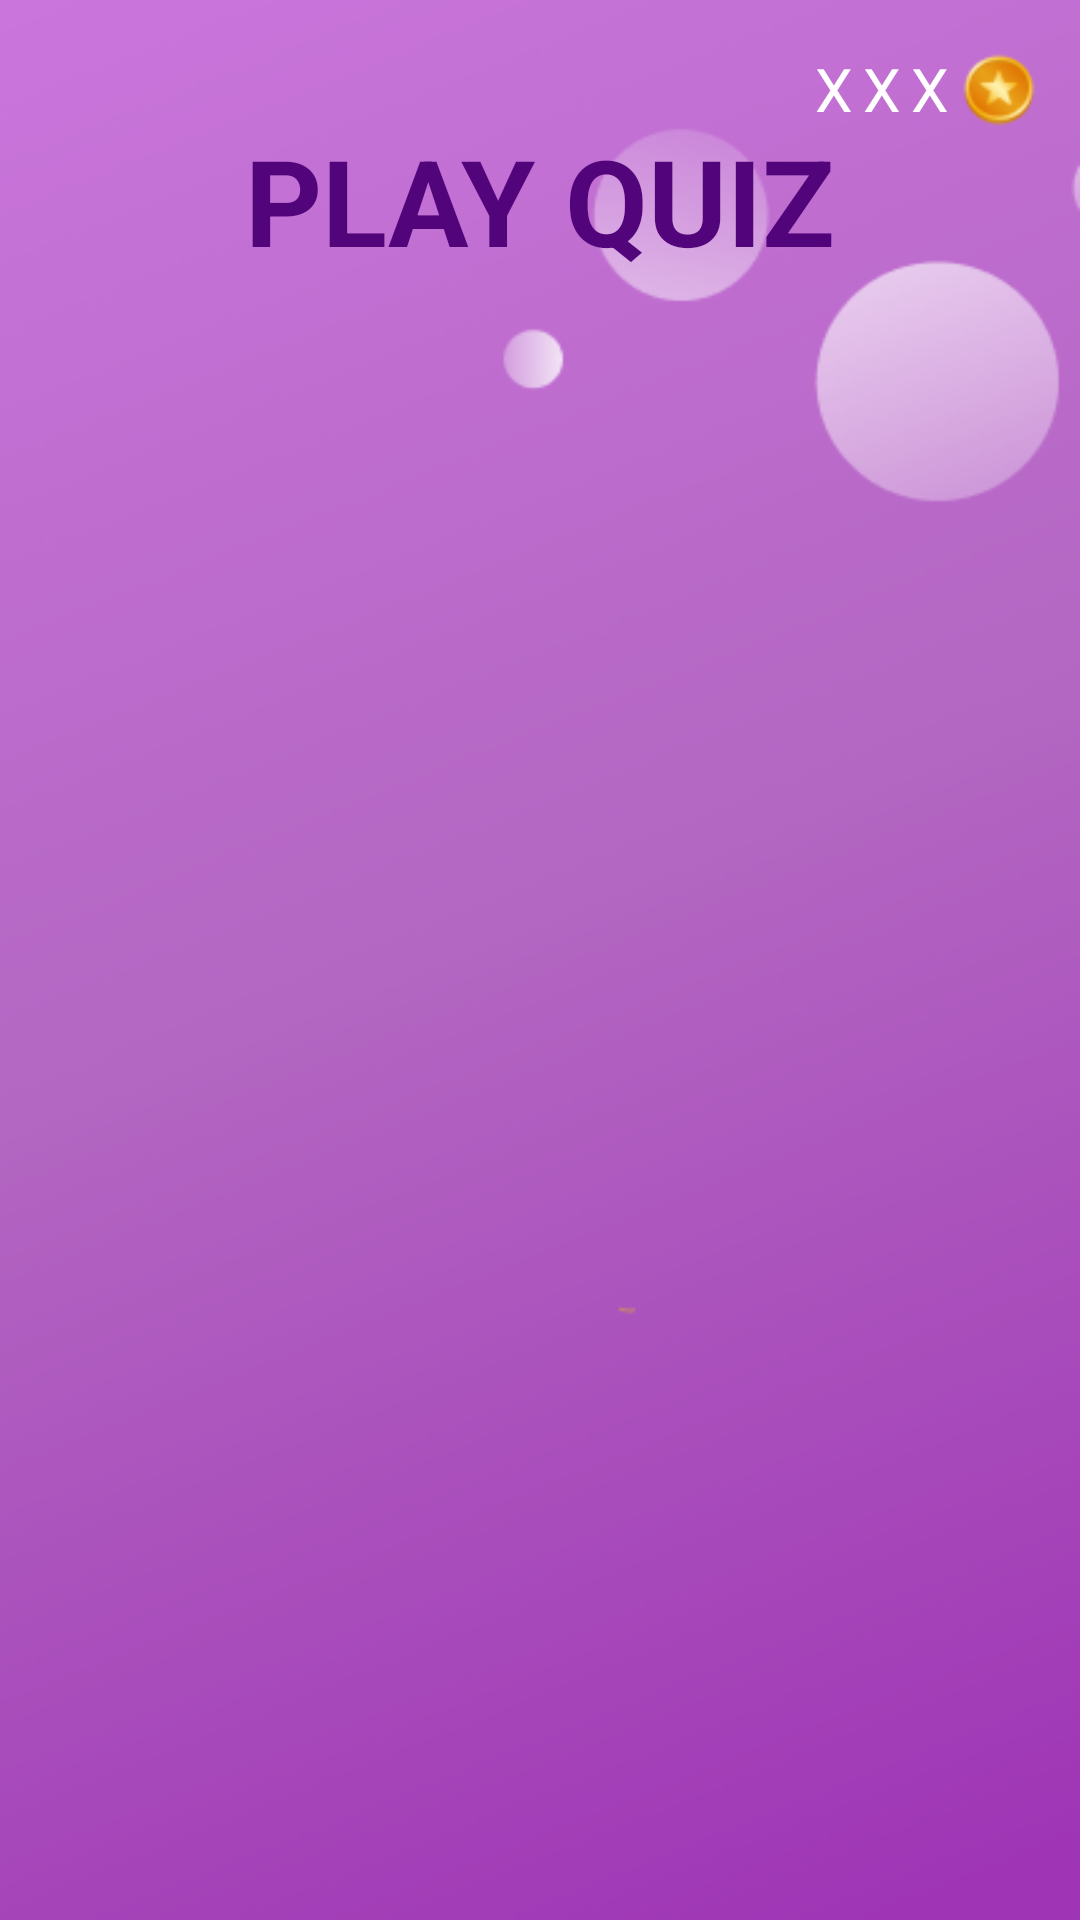

Screen size 1080 x 1920. Icon name, then its box in pixels as (x1, y1, x2, y2):
coins: (963, 55, 1035, 126)
